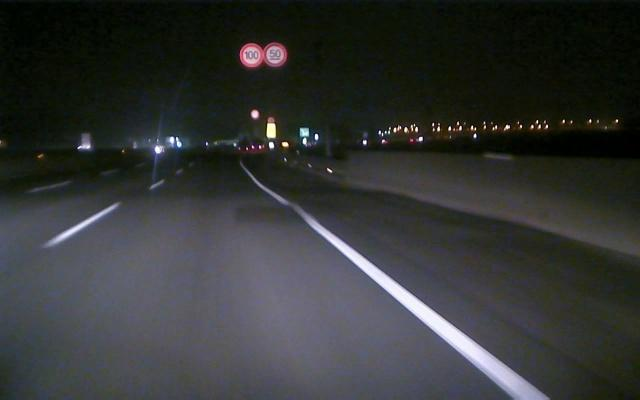lane: (255, 180, 549, 397), (36, 179, 165, 247)
